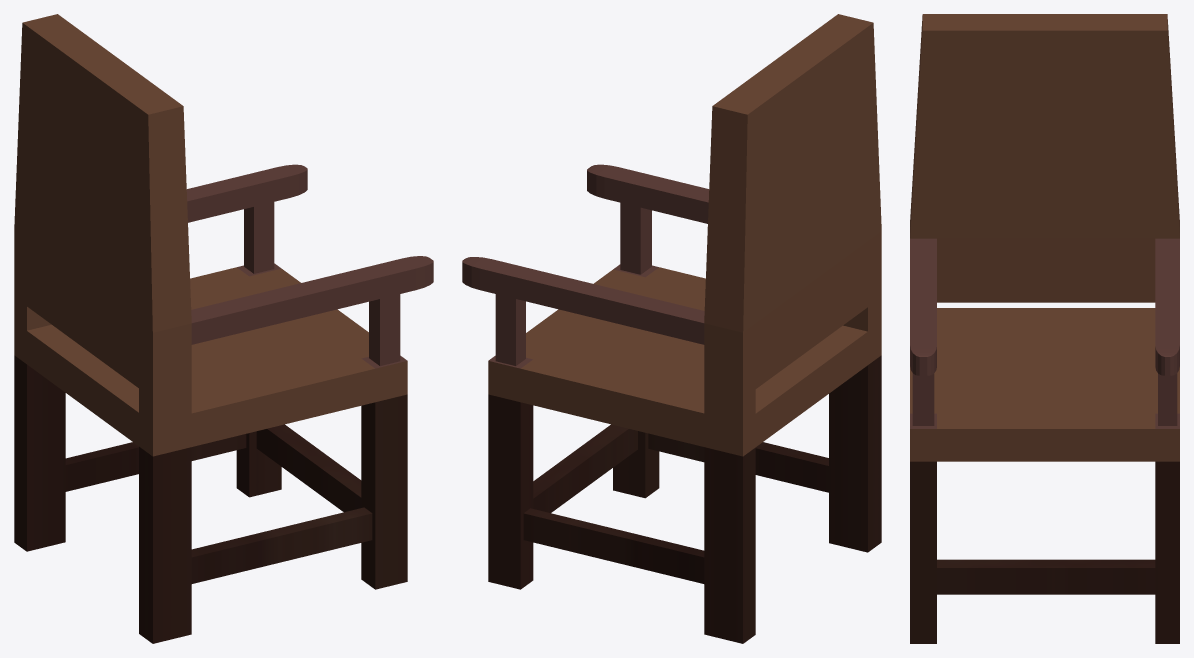
The model's file is broken_FlaskSquare.fbx_floor3.fbx_chair_2.fbx.
3 renders of one model, left to right at view 1: azimuth 30°, elevation 25°; view 2: azimuth 150°, elevation 25°; view 3: azimuth 270°, elevation 25°, orthographic. The views are drawn at different scales.
Parts seen in each view (by area): view 1: Cube.012; view 2: Cube.012; view 3: Cube.012.
Boxes of the visible parts, x1,y1,x2,y2 form: Cube.012: (14,14,433,643); Cube.012: (462,14,881,643); Cube.012: (910,14,1179,643).
Bounding box in the file's own units: 61.28 × 107 × 51.52.
